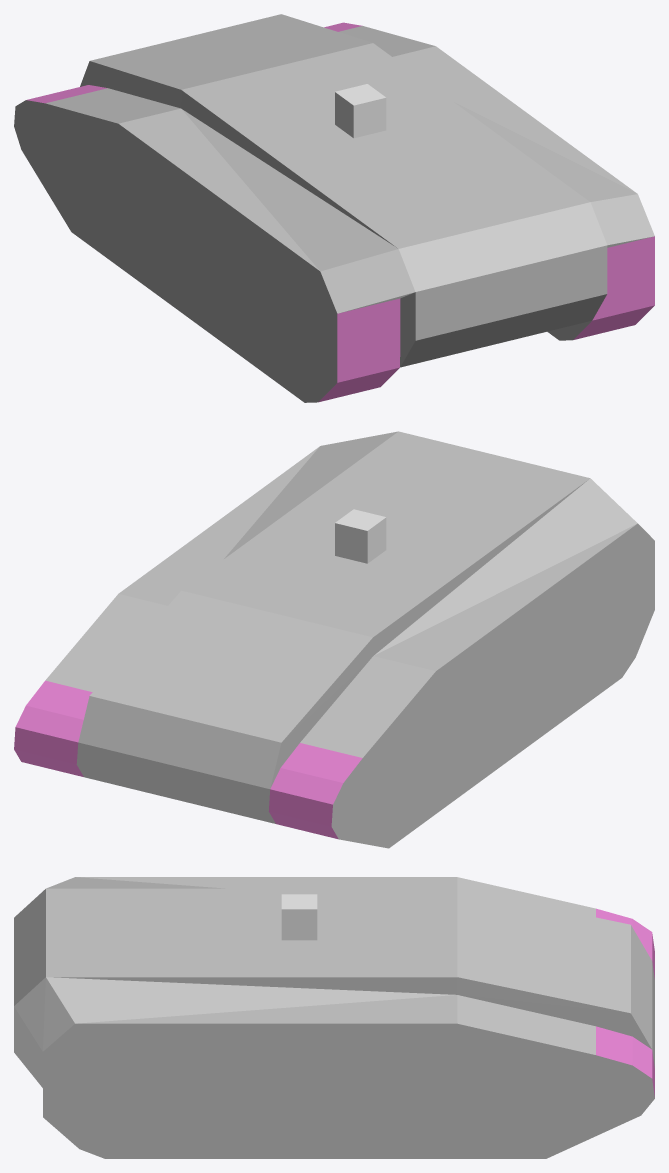
Rendered from hornet.glb.
3 renders of one model, top to bottom at view 1: azimuth 30°, elevation 25°; view 2: azimuth 150°, elevation 25°; view 3: azimuth 270°, elevation 25°, orthographic. The views are drawn at different scales.
Visible parts, largest first — view 1: hull, mount; view 2: hull, mount; view 3: hull, mount.
Part boxes in pixels (bbox=[...]): hull: bbox=[14, 14, 654, 402]; mount: bbox=[335, 84, 386, 138]; hull: bbox=[14, 431, 654, 848]; mount: bbox=[335, 509, 386, 563]; hull: bbox=[14, 877, 654, 1158]; mount: bbox=[281, 894, 317, 940].
Size of the model in its own units: 2.77 by 1.62 by 5.12.
